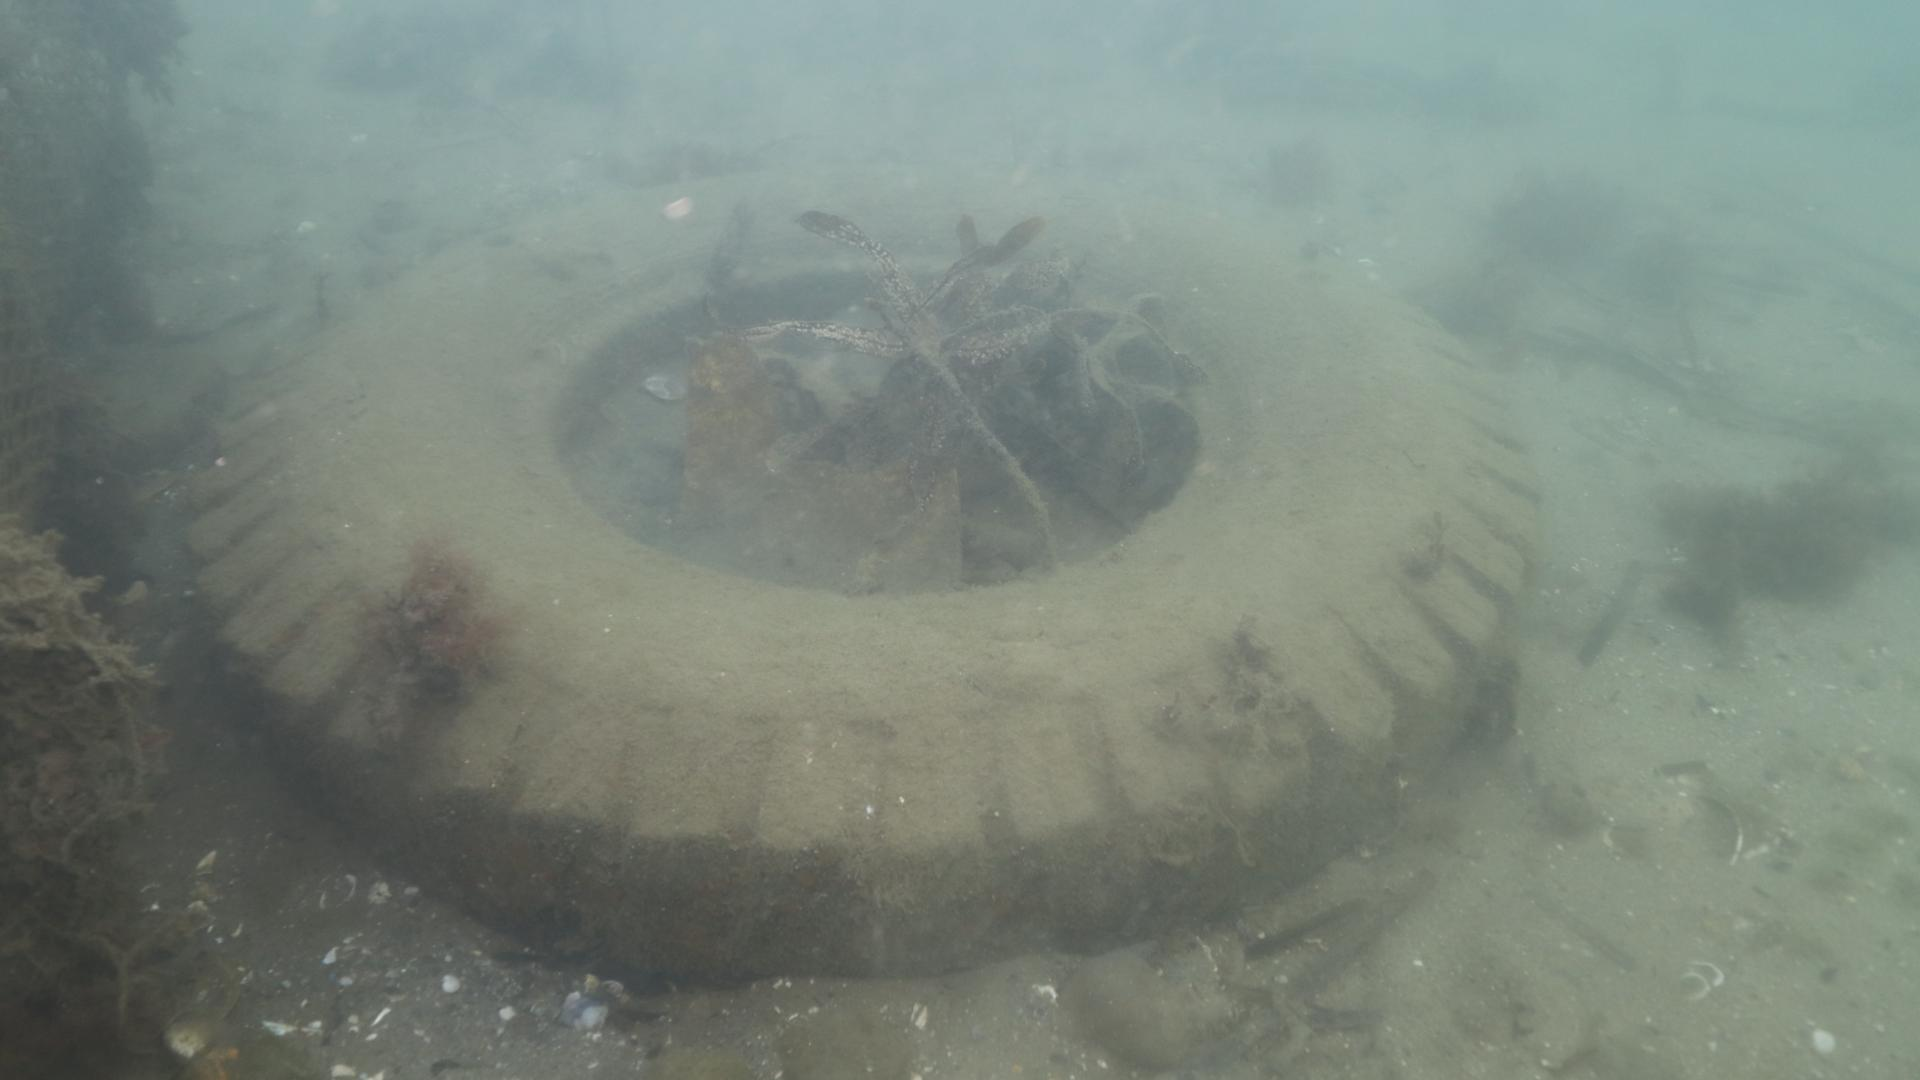tire: (181, 166, 1545, 980)
